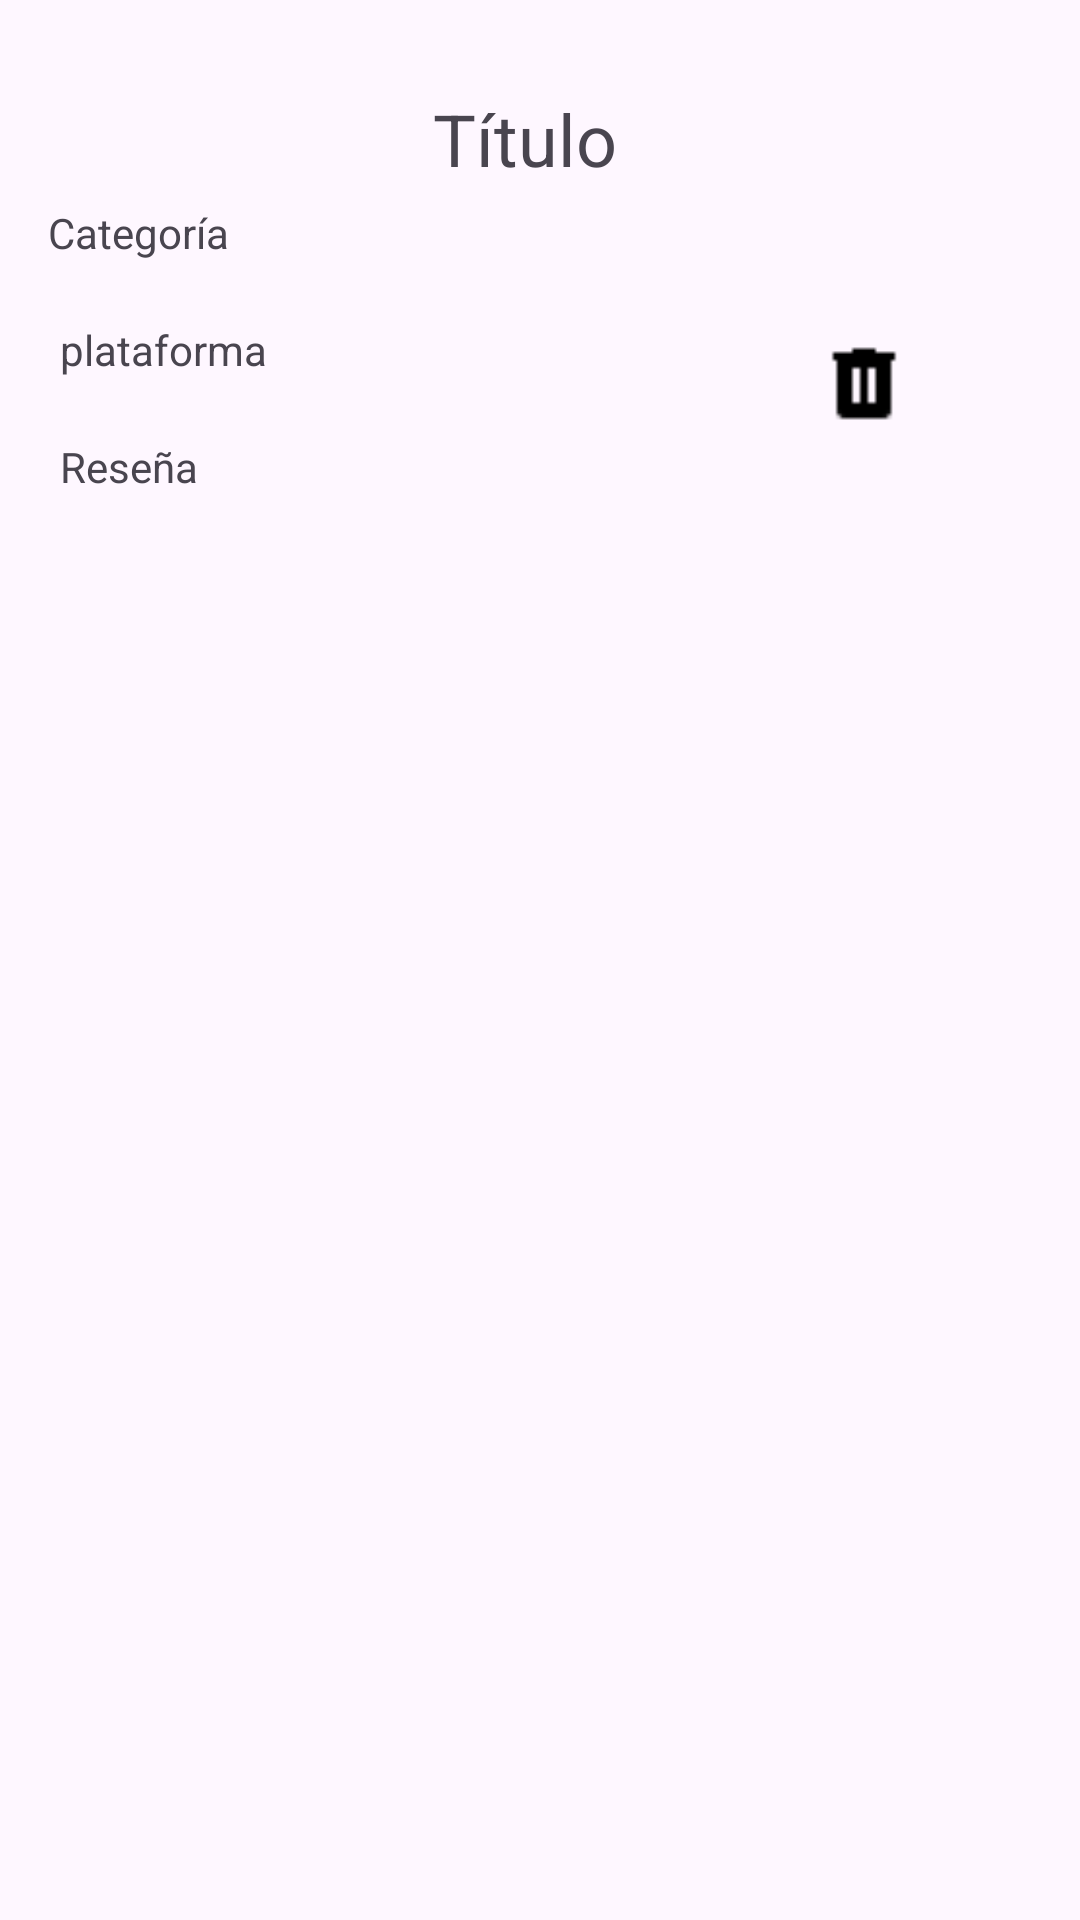

Where to tap for icons on this 1080px x 1920px app screen, as (x=x, y=y):
delete: (x=864, y=383)
